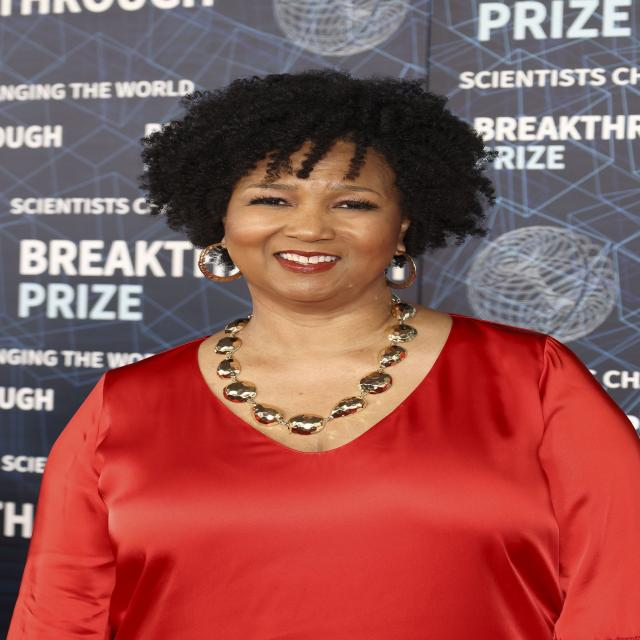sem_oculos: (213, 157, 433, 228)
